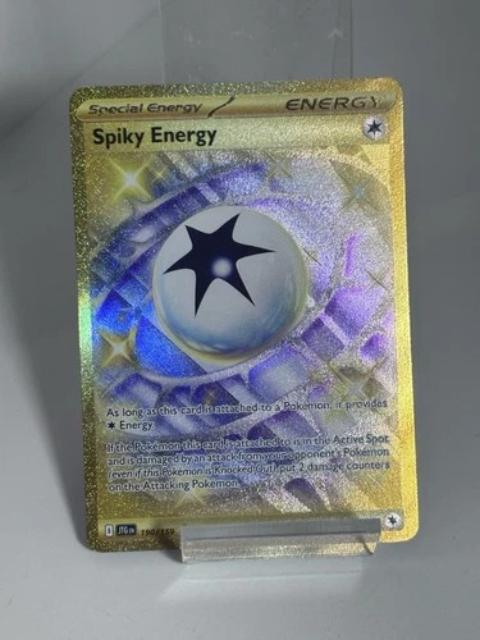Card: (63, 70, 423, 558)
Name: (88, 117, 223, 153)
